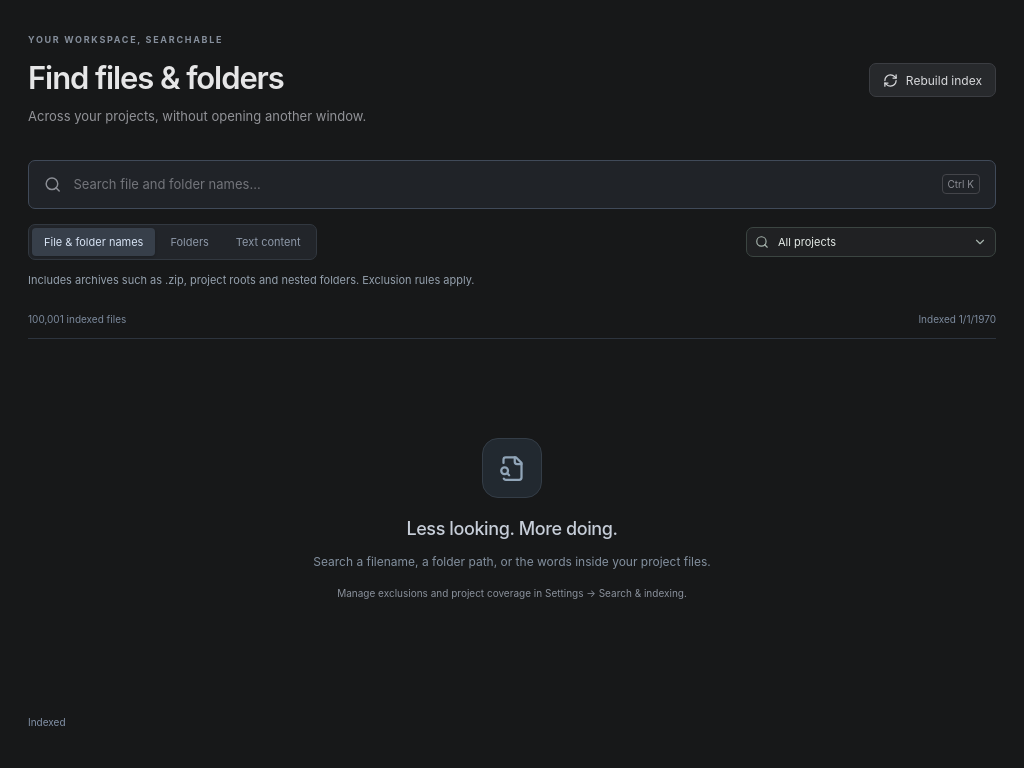
it: search result correctness › offers the current project only once and applies the selected project scope
The image size is (1024, 768).
Later steps or results of the test are not shown.
Click the dropdown named "Search scope".
click(871, 242)  # box x1=746 y1=227 x2=996 y2=257
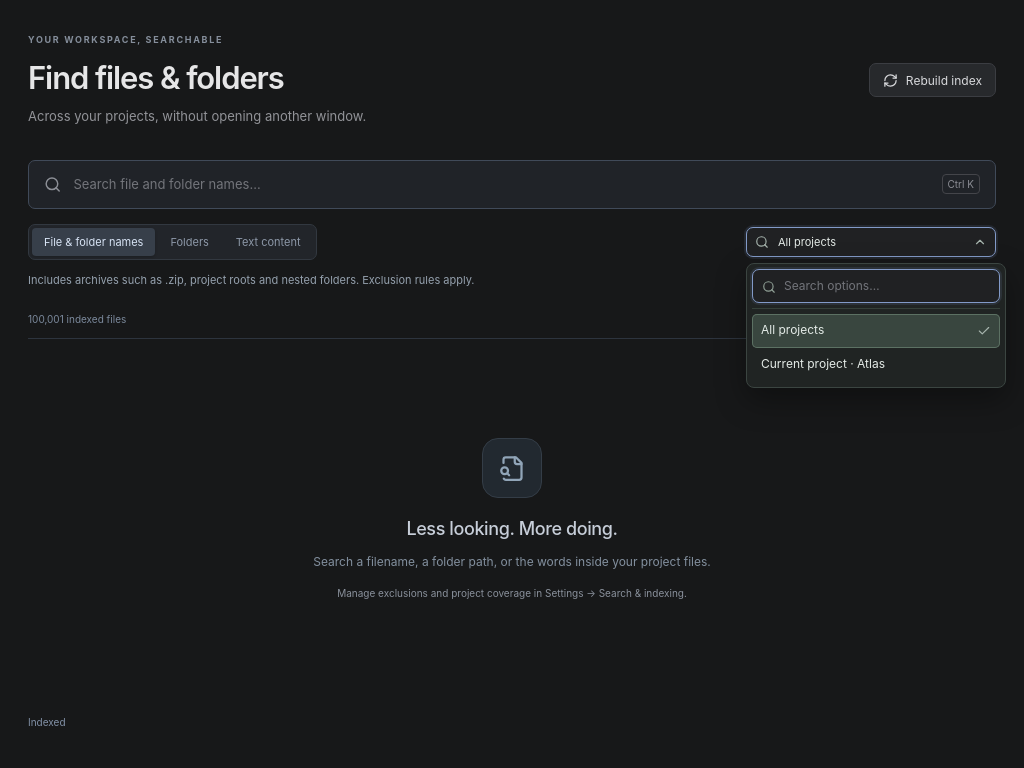
expect the number of options "Current project · Atlas" is 1: met, box x1=761 y1=356 x2=885 y2=371
expect the number of options is 2: met, box x1=752 y1=314 x2=1000 y2=348; x1=761 y1=356 x2=885 y2=371
